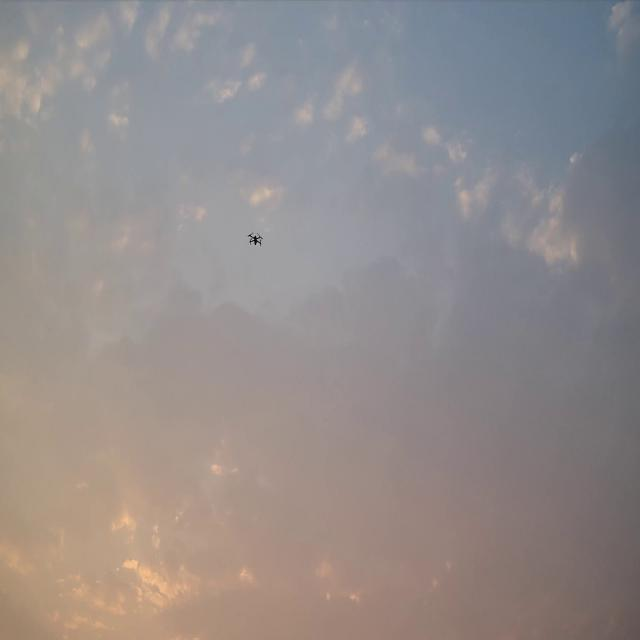drone: (247, 231, 263, 246)
